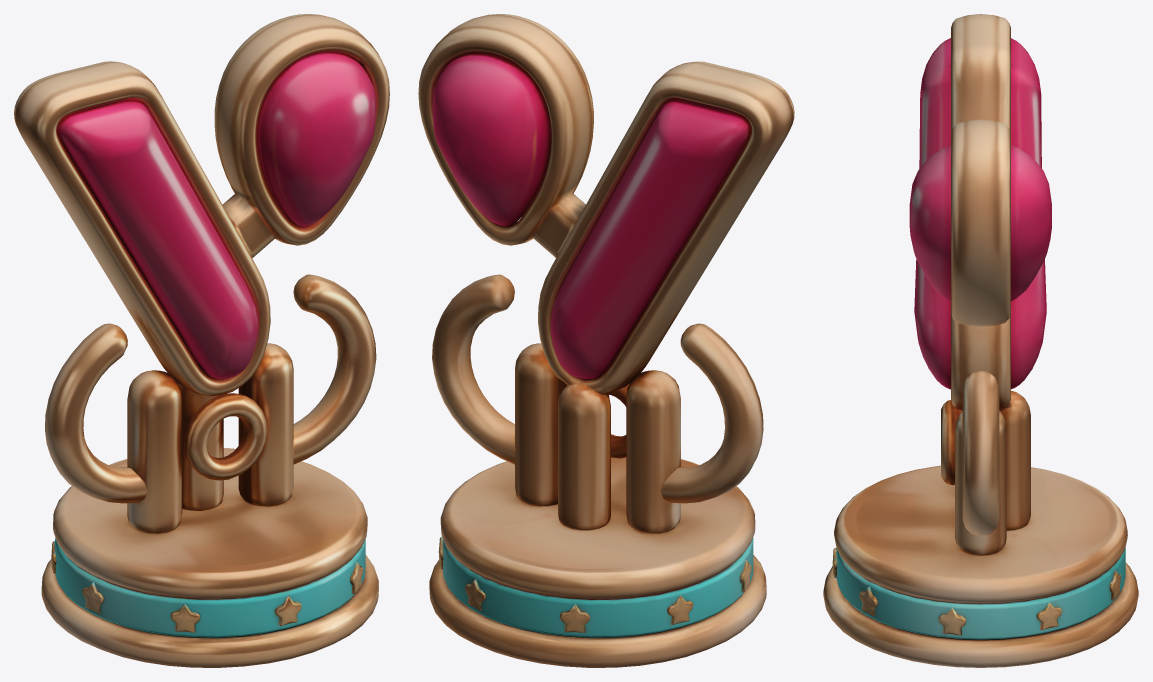
The model's file is Trophe3eme.glb.
3 renders of one model, left to right at view 1: azimuth 30°, elevation 25°; view 2: azimuth 150°, elevation 25°; view 3: azimuth 270°, elevation 25°, orthographic. The views are drawn at different scales.
Visible parts, largest first — view 1: tripo_4e7a6291_e2d6_4420_845a_d0fe3a0e0f0f; view 2: tripo_4e7a6291_e2d6_4420_845a_d0fe3a0e0f0f; view 3: tripo_4e7a6291_e2d6_4420_845a_d0fe3a0e0f0f.
Part boxes in pixels (left/top/right/bottom): tripo_4e7a6291_e2d6_4420_845a_d0fe3a0e0f0f: left=14, top=14, right=389, bottom=667; tripo_4e7a6291_e2d6_4420_845a_d0fe3a0e0f0f: left=418, top=14, right=794, bottom=667; tripo_4e7a6291_e2d6_4420_845a_d0fe3a0e0f0f: left=823, top=14, right=1138, bottom=667.
Size of the model in its own units: 0.6733 by 0.9995 by 0.5503.
1 material, 1 textured.
